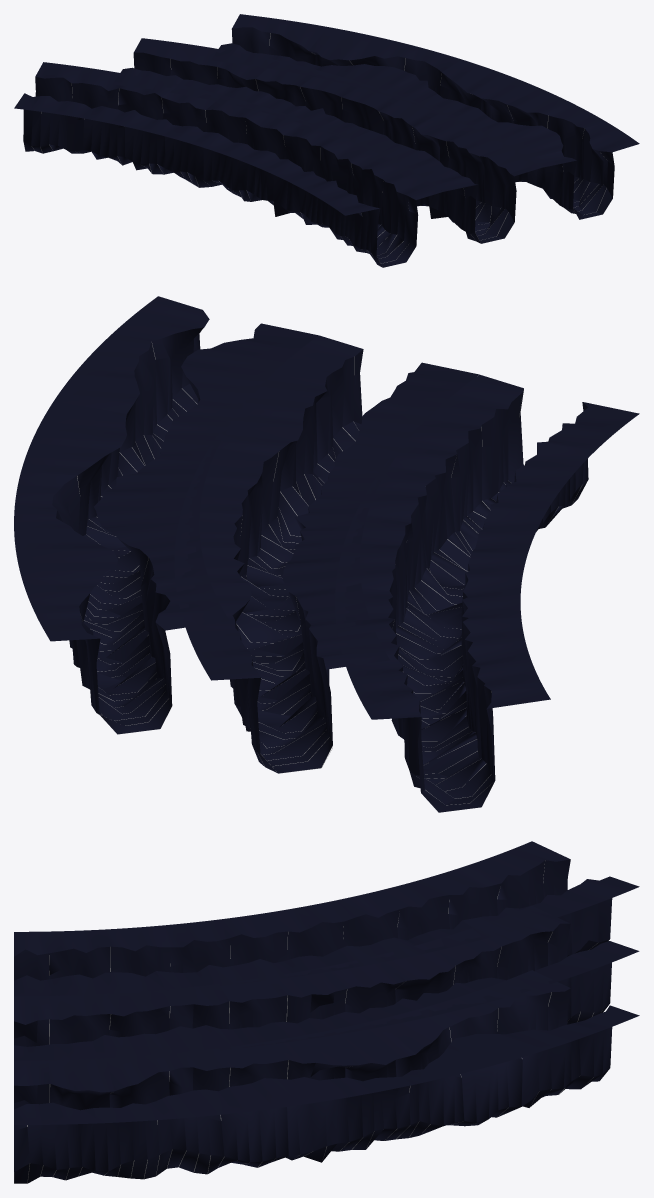
The model's file is leftcurvelight.FBX.
3 renders of one model, top to bottom at view 1: azimuth 30°, elevation 25°; view 2: azimuth 150°, elevation 25°; view 3: azimuth 270°, elevation 25°, orthographic. The views are drawn at different scales.
Visible parts, largest first — view 1: leftcurvelight003, leftcurvelight002, leftcurvelight001; view 2: leftcurvelight002, leftcurvelight003, leftcurvelight001; view 3: leftcurvelight002, leftcurvelight003, leftcurvelight001.
Part boxes in pixels (x1,y1,x2,y2): leftcurvelight003: [14, 62, 442, 267]; leftcurvelight002: [211, 14, 639, 219]; leftcurvelight001: [112, 38, 541, 243]; leftcurvelight002: [14, 296, 318, 734]; leftcurvelight003: [335, 374, 639, 812]; leftcurvelight001: [174, 335, 478, 773]; leftcurvelight002: [14, 970, 639, 1183]; leftcurvelight003: [14, 841, 639, 996]; leftcurvelight001: [14, 906, 639, 1060].
Bounding box in the file's own units: 6.72 × 0.9882 × 6.26.
